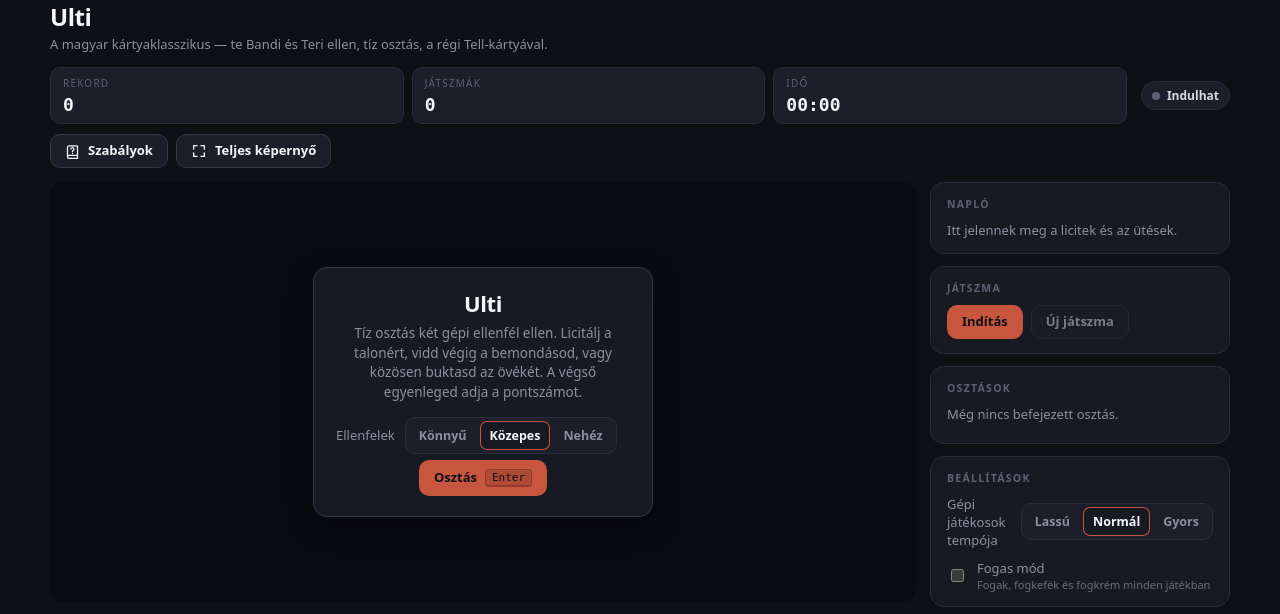
it: Ulti finish early › is hidden before the session and during a deal, with a note why
Click the button "Osztás Enter".
click(483, 478)  # box [419,460,547,496]
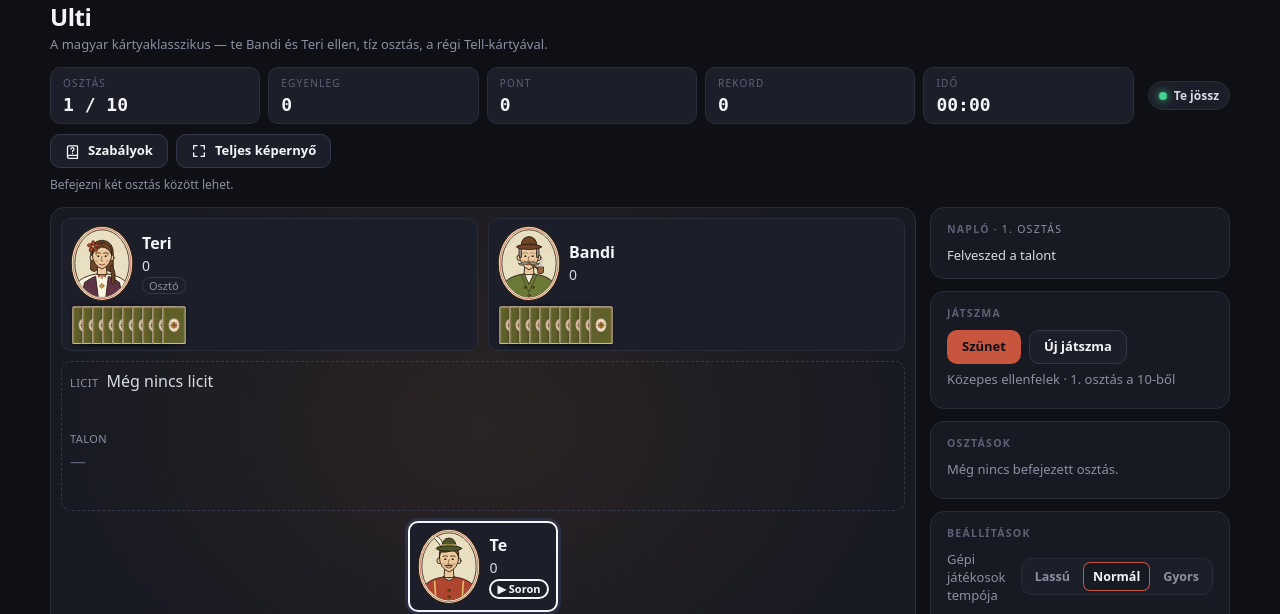
Check: the text with test id "ulti-finish-note" reads "Befejezni két osztás között lehet.", box [50,176,234,193]
